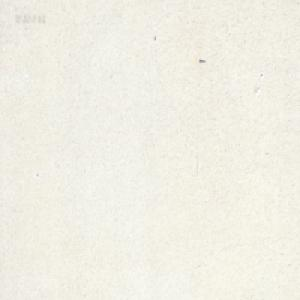Nail: (198, 57, 205, 62)
